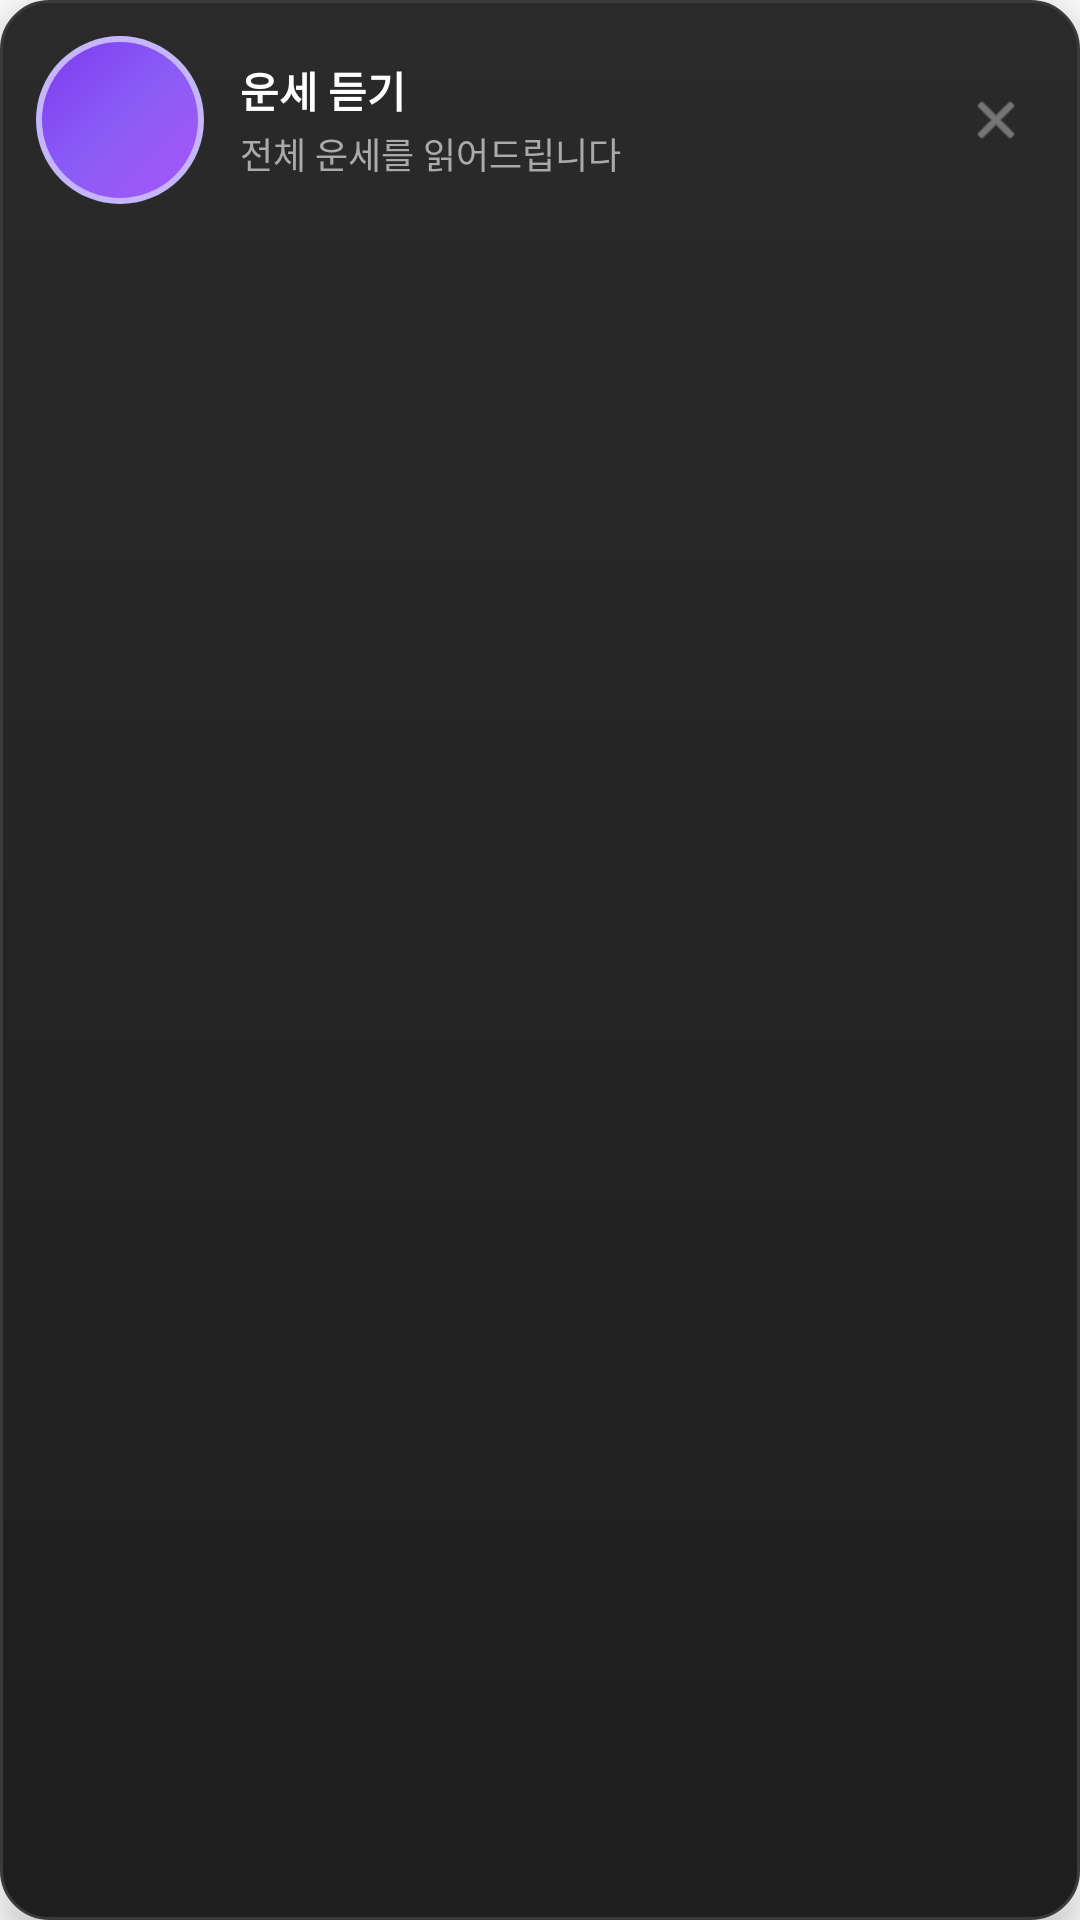

Screen size 1080px×1920px. Icon name, then its center in pixels as (x=x, y=y):
close clear cancel: (x=996, y=120)
